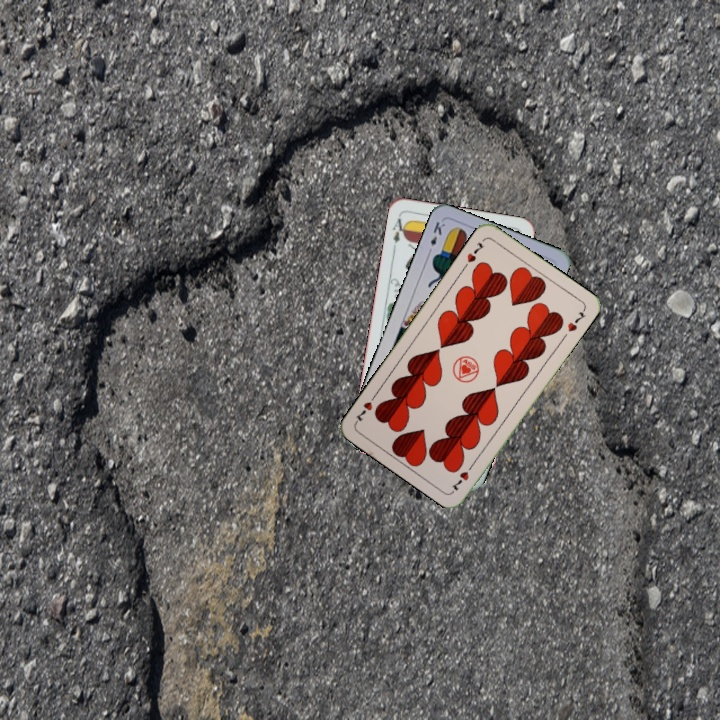EA: (388, 214, 410, 252)
EK: (424, 217, 448, 257)
H7: (448, 459, 477, 494), (459, 238, 486, 271)
